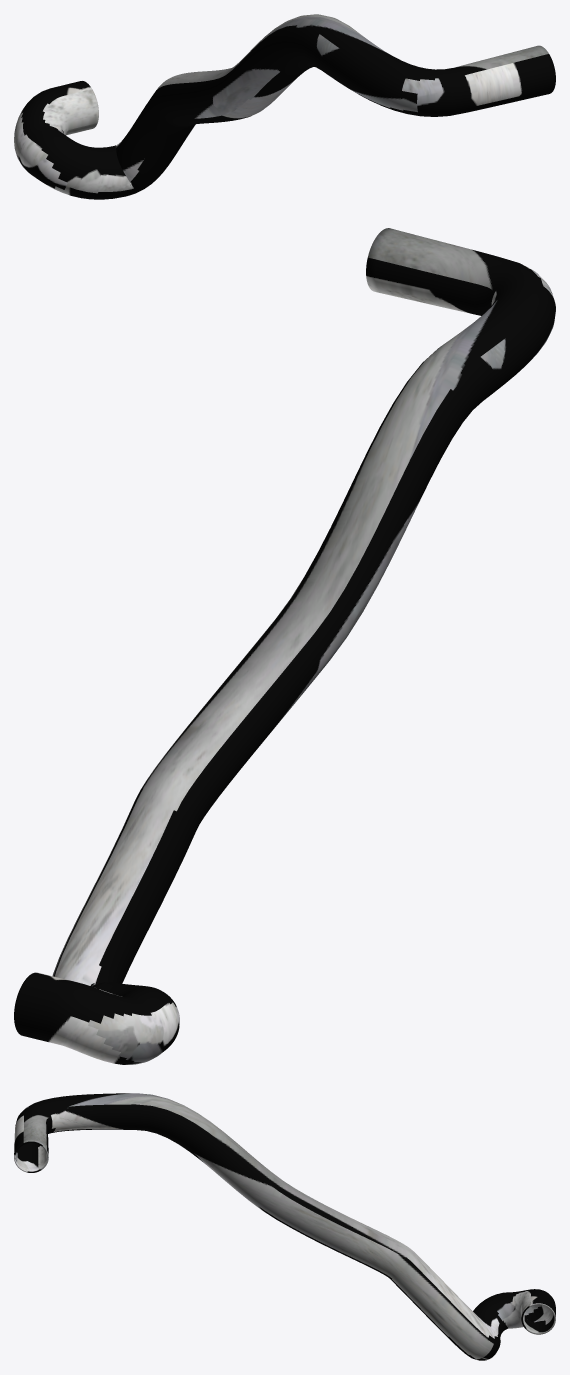
The model's file is intercooler_manifold_twinCarb_tube.fbx.
3 views of the same model, one above another, from view 1: azimuth 30°, elevation 25°; view 2: azimuth 150°, elevation 25°; view 3: azimuth 270°, elevation 25° (orthographic). The views are drawn at different scales.
Visible parts, largest first — view 1: intercooler_manifold_twinCarb_tube; view 2: intercooler_manifold_twinCarb_tube; view 3: intercooler_manifold_twinCarb_tube.
Part boxes in pixels (x1=…): intercooler_manifold_twinCarb_tube: x1=14, y1=14, x2=555, y2=199; intercooler_manifold_twinCarb_tube: x1=14, y1=228, x2=555, y2=1064; intercooler_manifold_twinCarb_tube: x1=14, y1=1093, x2=555, y2=1360.
Size of the model in its own units: 17.89 by 34.34 by 66.98.
